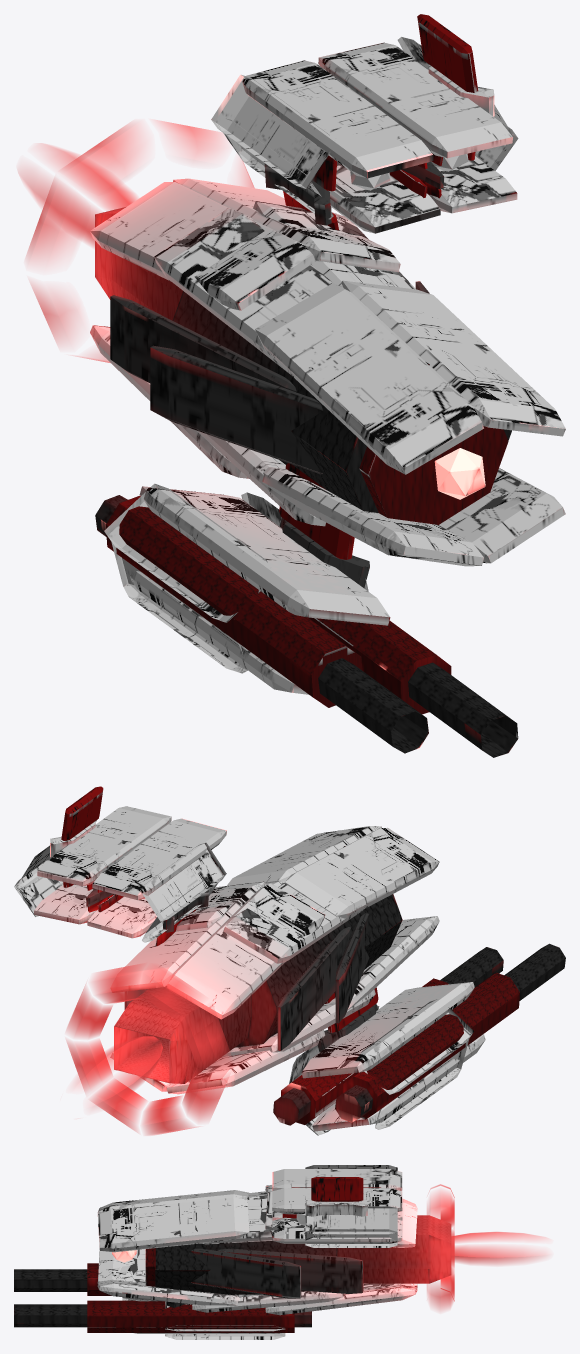
The model's file is zalek_drone_heavy.gltf.
3 views of the same model, one above another, from view 1: azimuth 30°, elevation 25°; view 2: azimuth 150°, elevation 25°; view 3: azimuth 270°, elevation 25° (orthographic). The views are drawn at different scales.
Visible parts, largest first — view 1: base_glow, glow_torus; view 2: base_glow, glow_torus; view 3: base_glow, glow_torus.
Boxes of the visible parts, x1,y1,x2,y2 form: base_glow: (90,14,565,757); glow_torus: (18,120,254,362); base_glow: (14,786,565,1135); glow_torus: (66,964,230,1135); base_glow: (14,1165,451,1339); glow_torus: (427,1184,546,1311).
Size of the model in its own units: 4.55 by 4.54 by 9.77.
2 materials, 2 textured.
